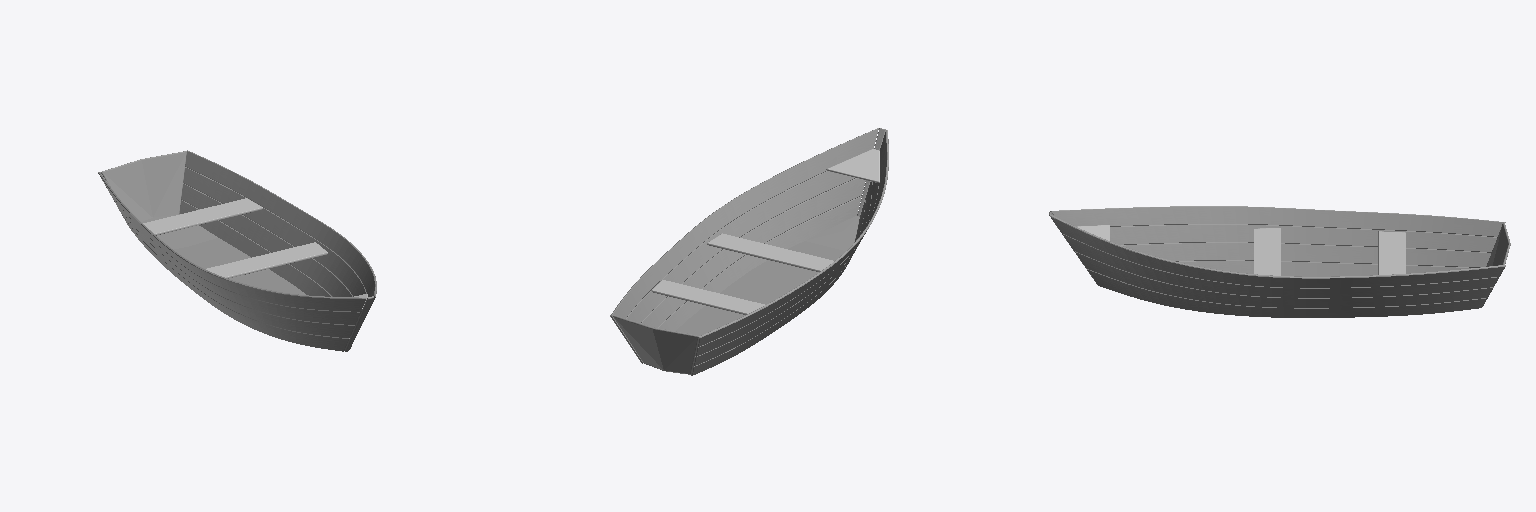
The model's file is BootVorEffekt.obj.
The picture shows the model from 3 angles: view 1: azimuth 30°, elevation 25°; view 2: azimuth 150°, elevation 25°; view 3: azimuth 270°, elevation 25°; orthographic projection.
Parts seen in each view (by area): view 1: Side_Cube.002, Back_Cube.001, Bottom_Cube, H.Sitzbank_Plane.002, V..Sitzbank_Plane.006; view 2: Side_Cube.002, Bottom_Cube, Back_Cube.001, V..Sitzbank_Plane.006, H.Sitzbank_Plane.002, SpitzBrett_Plane.005; view 3: Side_Cube.002, V..Sitzbank_Plane.006, H.Sitzbank_Plane.002, Back_Cube.001.
Part boxes in pixels (x1,y1,x2,y2): Side_Cube.002: (98, 150, 376, 351); Back_Cube.001: (101, 151, 186, 221); Bottom_Cube: (142, 214, 305, 294); H.Sitzbank_Plane.002: (143, 198, 262, 235); V..Sitzbank_Plane.006: (206, 242, 327, 278); Side_Cube.002: (610, 128, 888, 375); Bottom_Cube: (644, 216, 859, 374); Back_Cube.001: (613, 315, 698, 373); V..Sitzbank_Plane.006: (707, 233, 833, 271); H.Sitzbank_Plane.002: (651, 280, 764, 314); SpitzBrett_Plane.005: (826, 149, 879, 182); Side_Cube.002: (1050, 206, 1505, 317); V..Sitzbank_Plane.006: (1254, 228, 1280, 275); H.Sitzbank_Plane.002: (1378, 231, 1405, 274); Back_Cube.001: (1486, 223, 1510, 266).
Size of the model in its own units: 3.4 by 1.97 by 9.56.